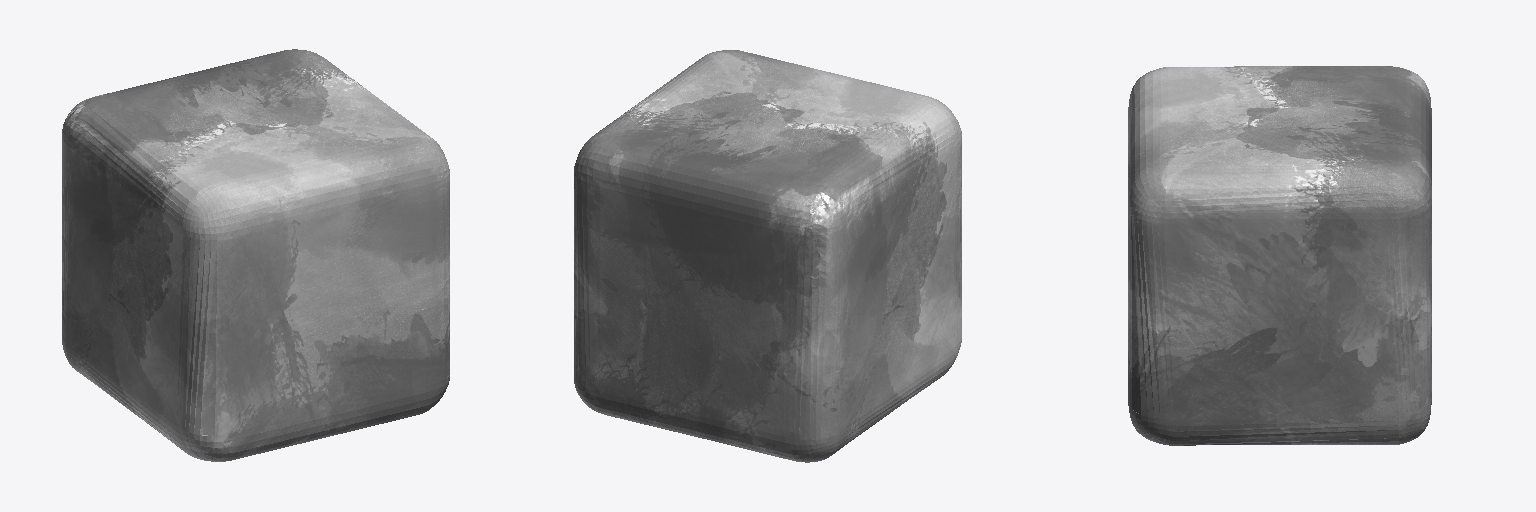
3 views of the same model, side by side, from view 1: azimuth 30°, elevation 25°; view 2: azimuth 150°, elevation 25°; view 3: azimuth 270°, elevation 25° (orthographic).
Visible parts, largest first — view 1: MDL_OBJ_CBMaterial; view 2: MDL_OBJ_CBMaterial; view 3: MDL_OBJ_CBMaterial.
Boxes of the visible parts, <box> form: MDL_OBJ_CBMaterial: <box>62,49,449,461</box>; MDL_OBJ_CBMaterial: <box>574,50,961,462</box>; MDL_OBJ_CBMaterial: <box>1128,66,1431,445</box>.
Bounding box in the file's own units: 0.9998 × 1 × 0.9999.
Materials: 1 (1 with a texture image).